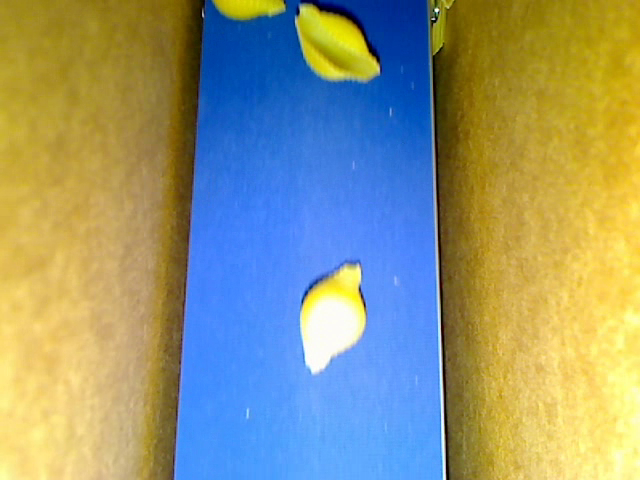penne: (429, 1, 445, 61), (436, 1, 457, 15)
shell: (297, 257, 367, 378), (294, 3, 378, 83), (210, 1, 288, 21)
